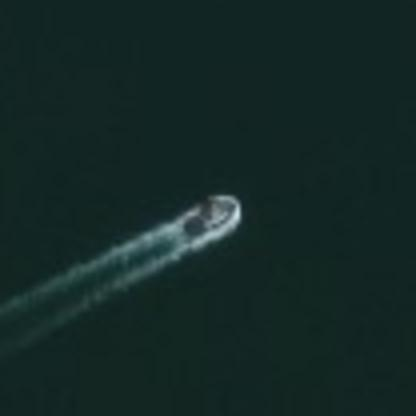ship: (174, 186, 247, 246)
